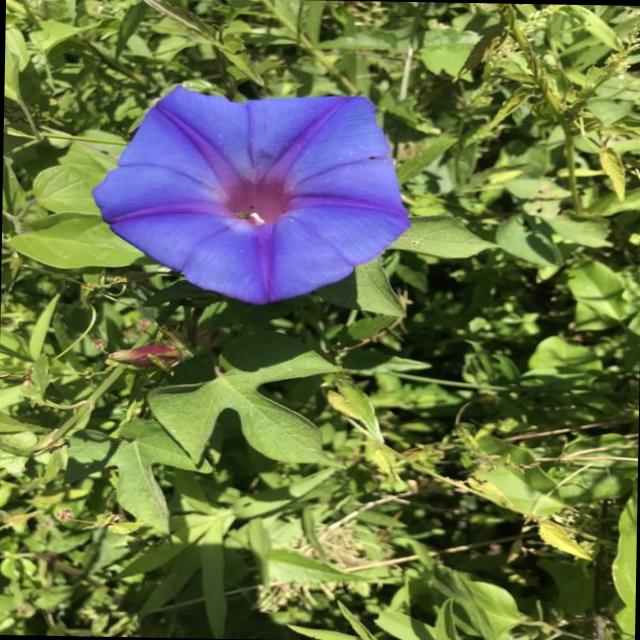ipomoea: (86, 80, 415, 310)
